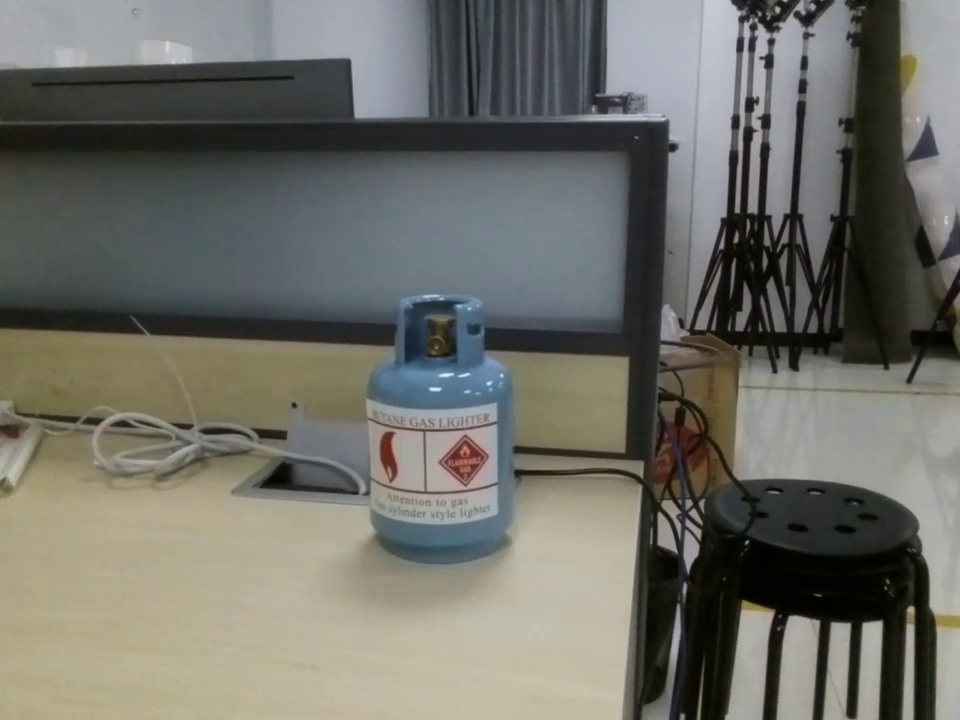gas tank: (331, 286, 546, 568)
